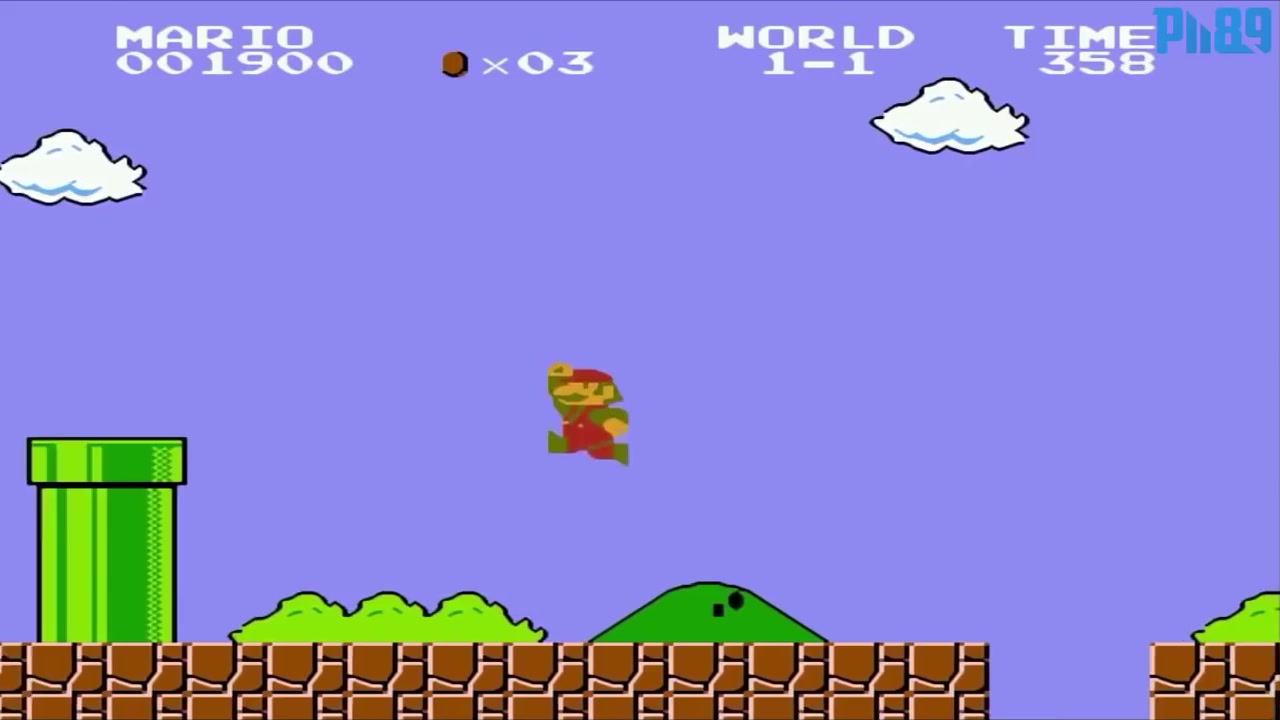mario: (537, 355, 640, 470)
